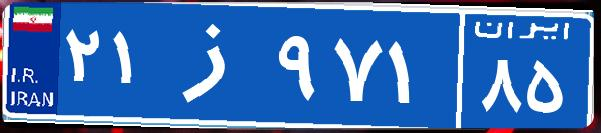1: (385, 28, 445, 110), (110, 28, 158, 105)
2: (57, 26, 110, 107)
5: (525, 38, 570, 115)
7: (330, 28, 385, 110)
8: (475, 38, 525, 113)
9: (273, 28, 330, 110)
ز: (158, 15, 273, 115)
